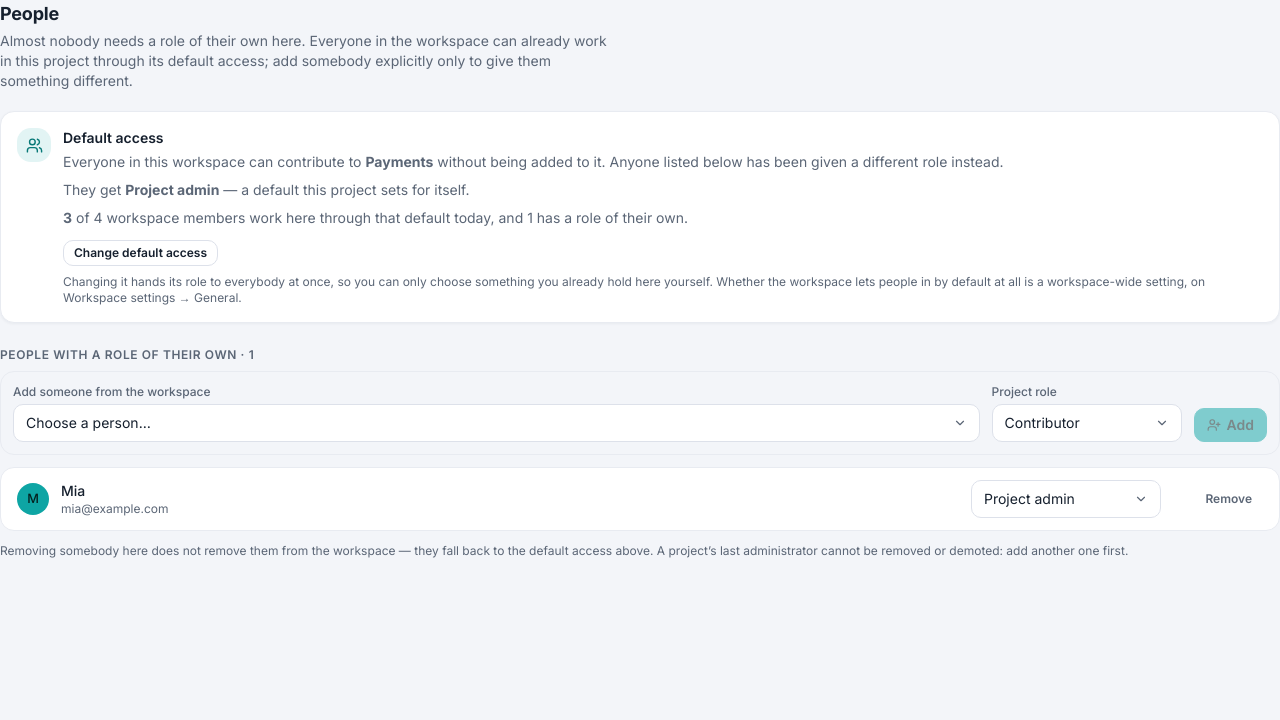
ProjectPeoplePage — default access › opens the real picker (HD-130 S7) on the choice this project actually made
The width and height of the screenshot is (1280, 720).
Click the button "Change default access" at (140, 253), box [63,240,218,266]
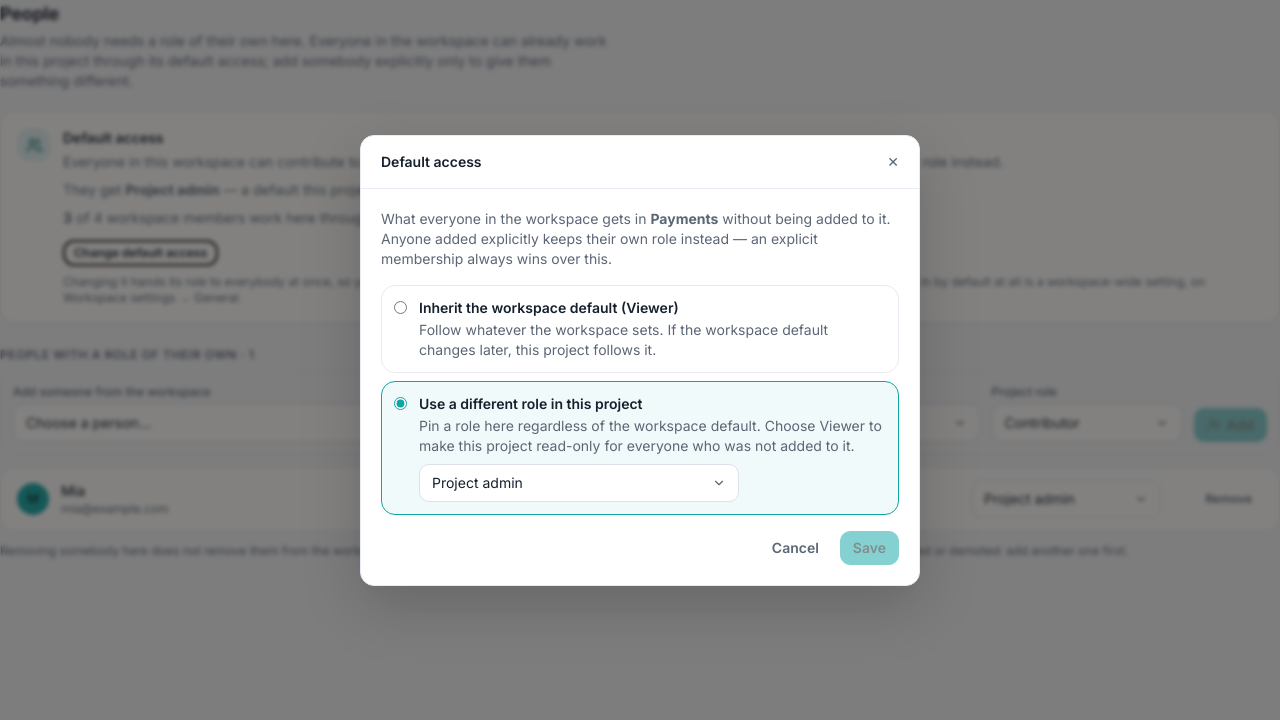
Expected: the radio button labelled "Inherit the workspace default (Viewer)" is shown, [394,300,407,314]
Expected: the radio button labelled "Use a different role in this project" is checked, [394,396,407,410]
